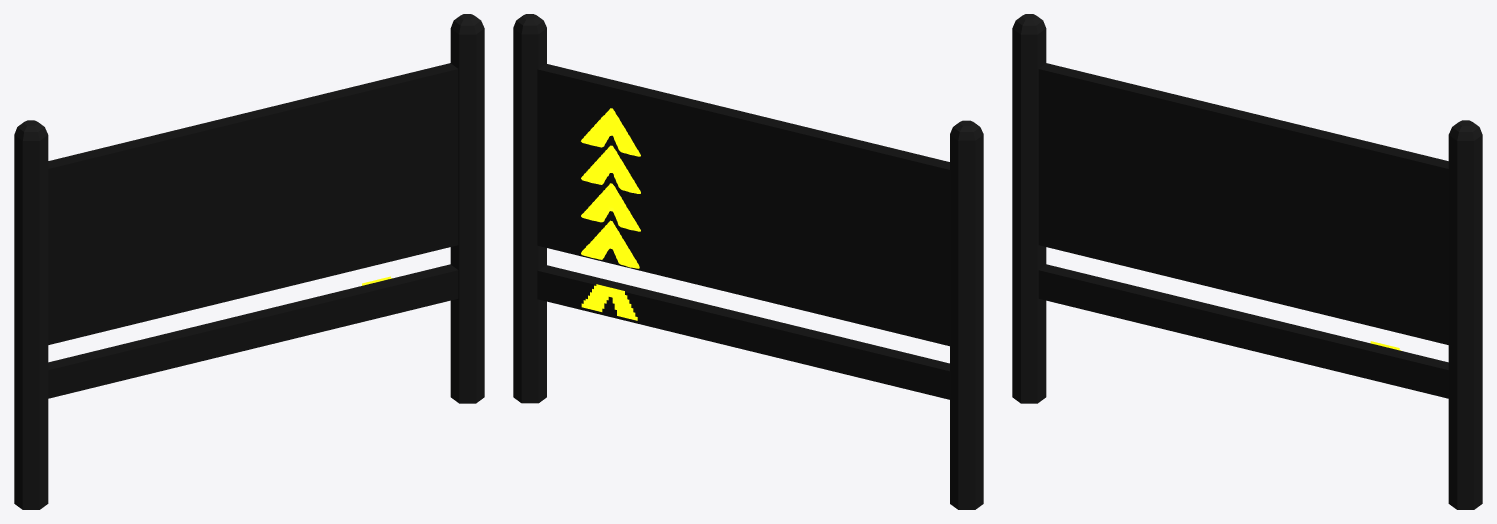
Rendered from up_obstacle.glb.
The picture shows the model from 3 angles, left to right: view 1: azimuth 30°, elevation 25°; view 2: azimuth 150°, elevation 25°; view 3: azimuth 330°, elevation 25°; orthographic projection.
Parts seen in each view (by area): view 1: up; view 2: up; view 3: up.
Part boxes in pixels (x1,y1,x2,y2): up: (14,14,484,509); up: (513,14,983,509); up: (1012,14,1482,509).
Size of the model in its own units: 6.8 by 5.35 by 0.4332.
Materials: 4 (2 with a texture image).
